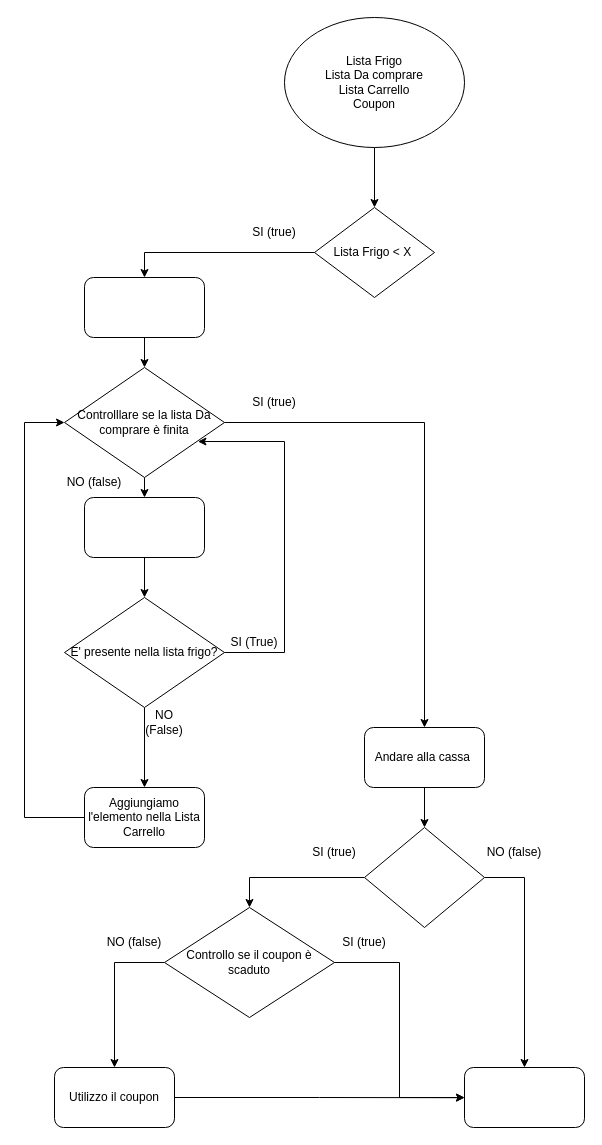
This 602x1145 diagram has some shape labels left out. Here are the shapes that lost their labels. From the top down, the centre of each, then its label:
point 144,307: Andiamo al Supermercato
point 144,527: Prendiamo un elemento in ordine dalla lista Da Comprare
point 424,877: Se ho almeno un coupon
point 524,1097: Pago con il Saldo Portafoglio
